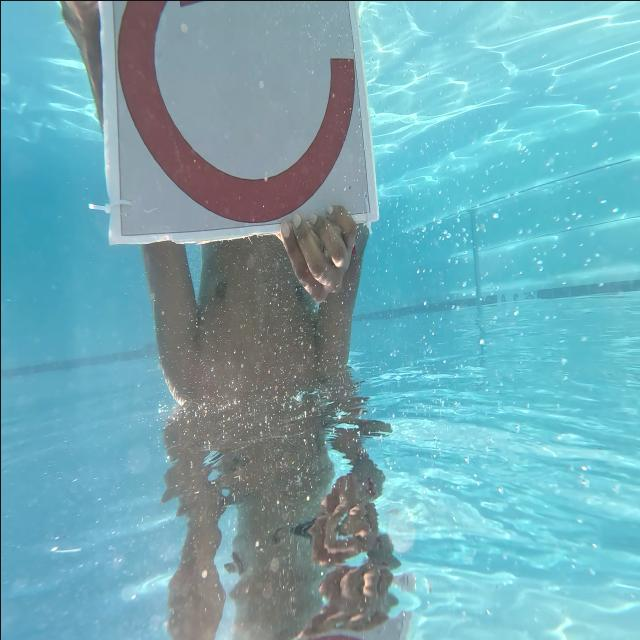red_side: (98, 0, 374, 220)
